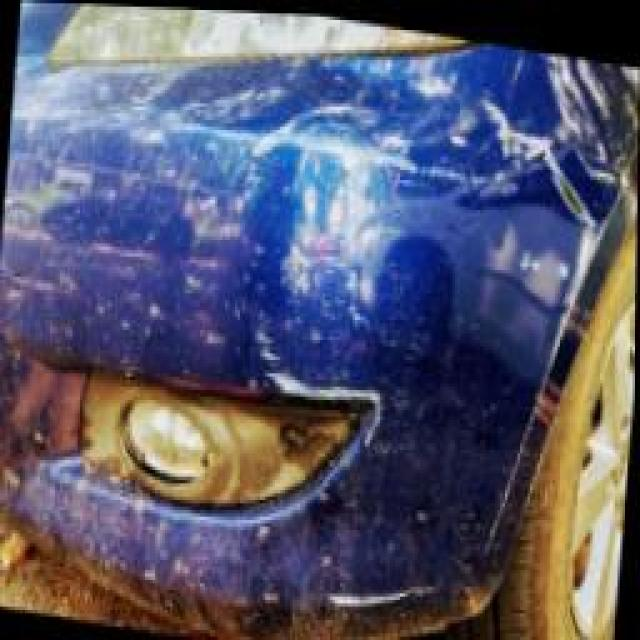Bumper: (0, 57, 559, 640)
Fender: (520, 43, 639, 171)
